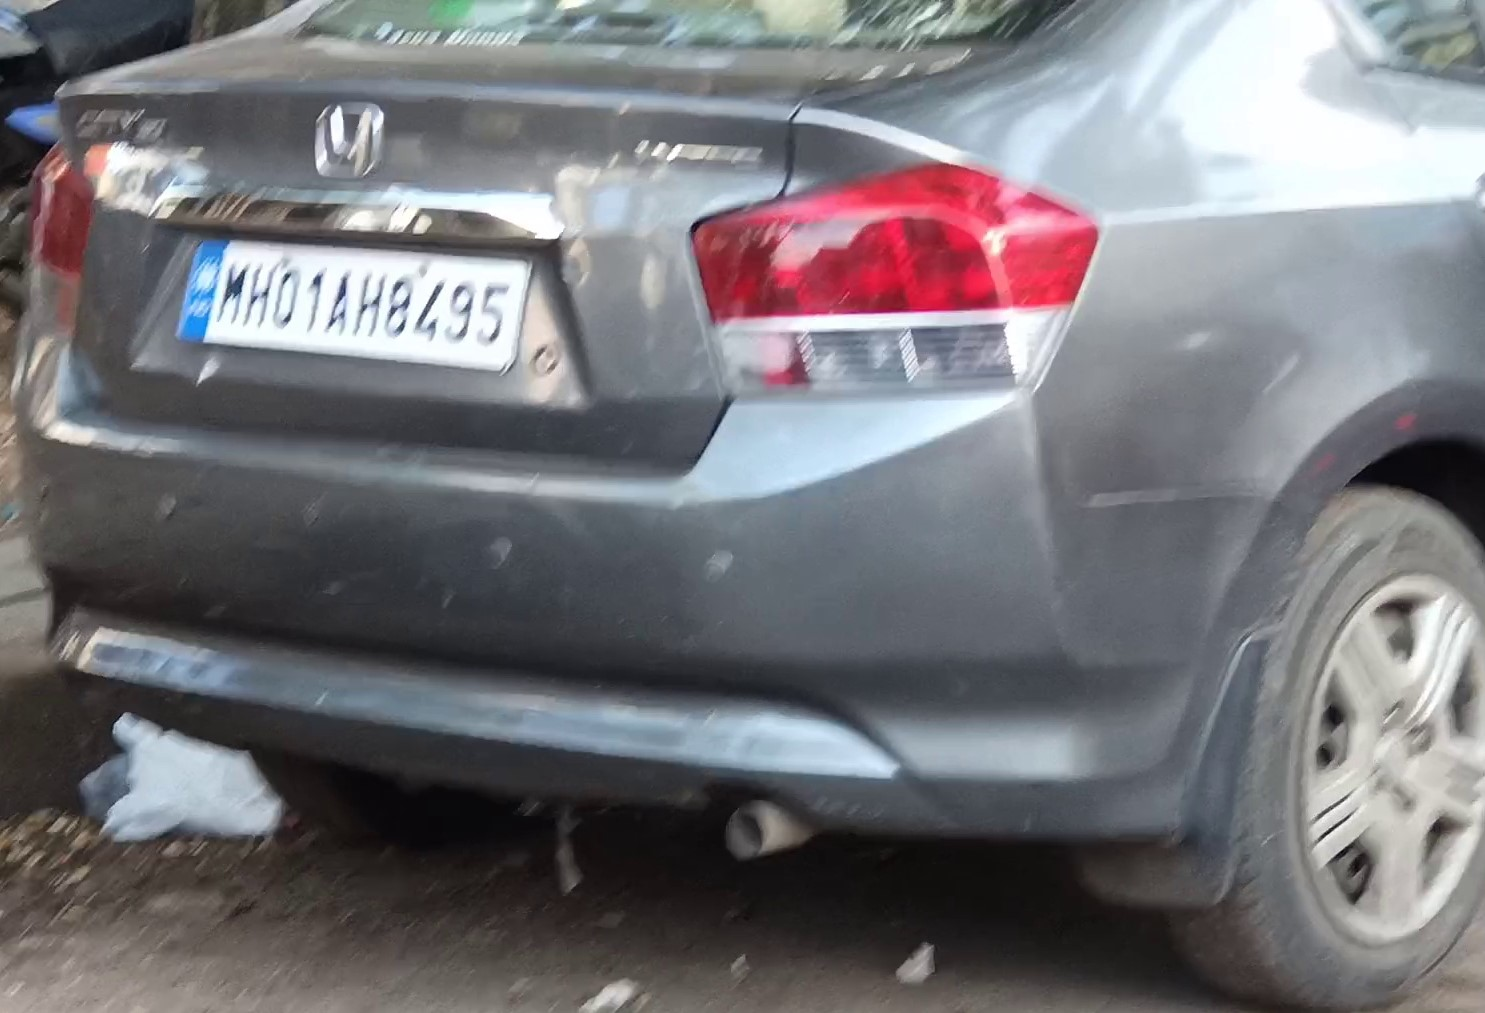MH01AH8495: (176, 242, 531, 373)
